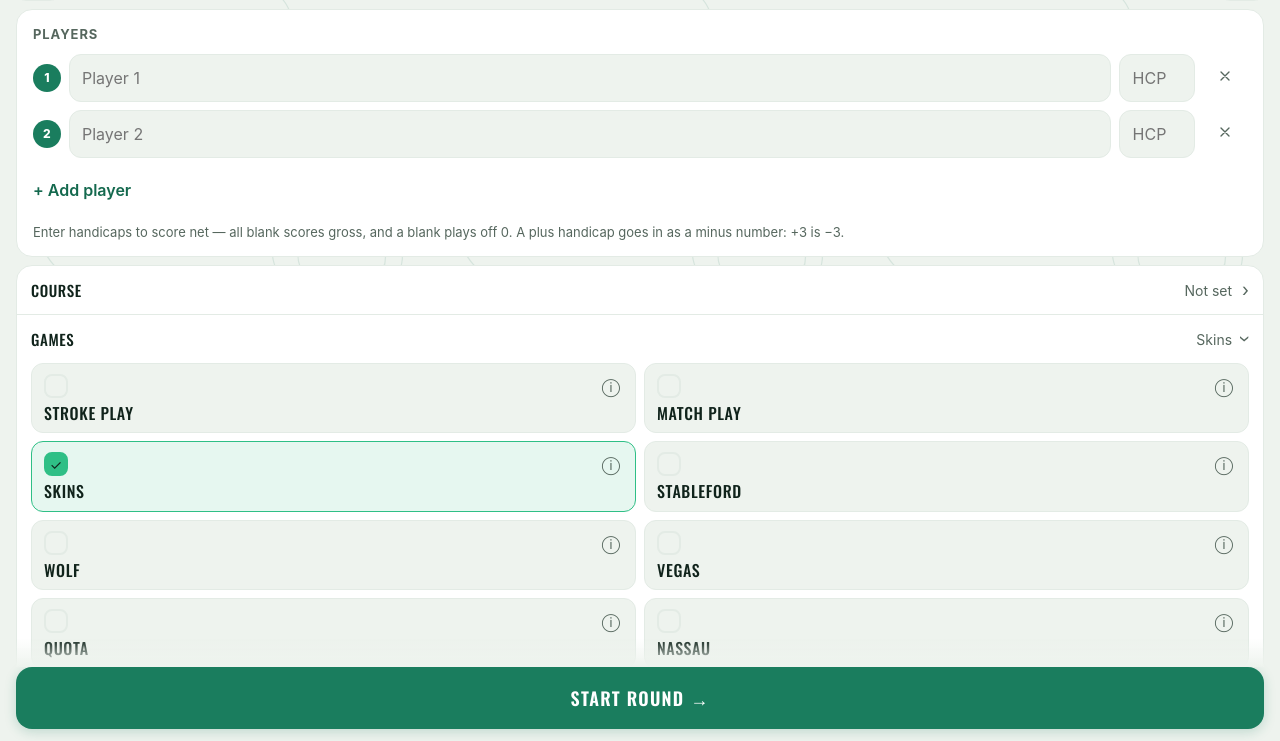
Test case: a scorecard that arrives damaged › names what looks wrong instead of importing it quietly
Click the button with class "setup-row-head" showing "Course Not set ›". click: (56, 290)
box: [17,266,1263,314]
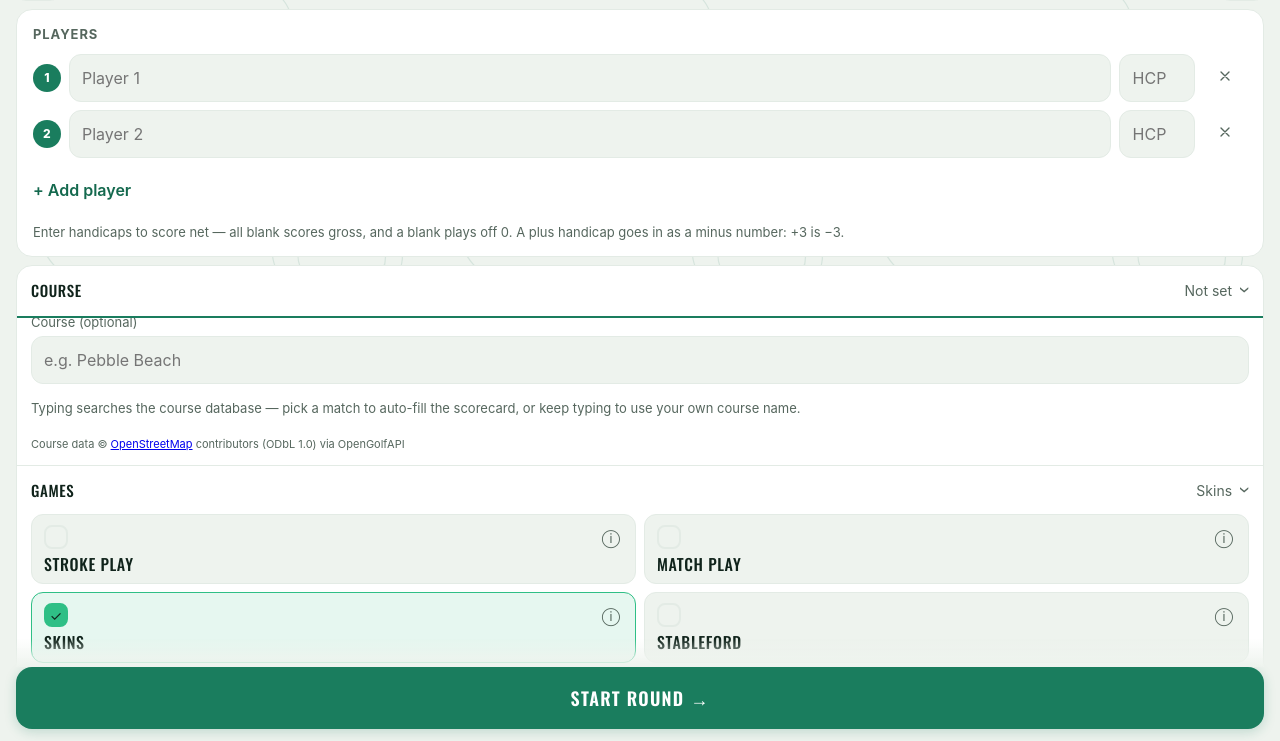
Type "Bramble" into the field labelled "Course (optional)". click: (640, 360)
box: [31,336,1249,384]
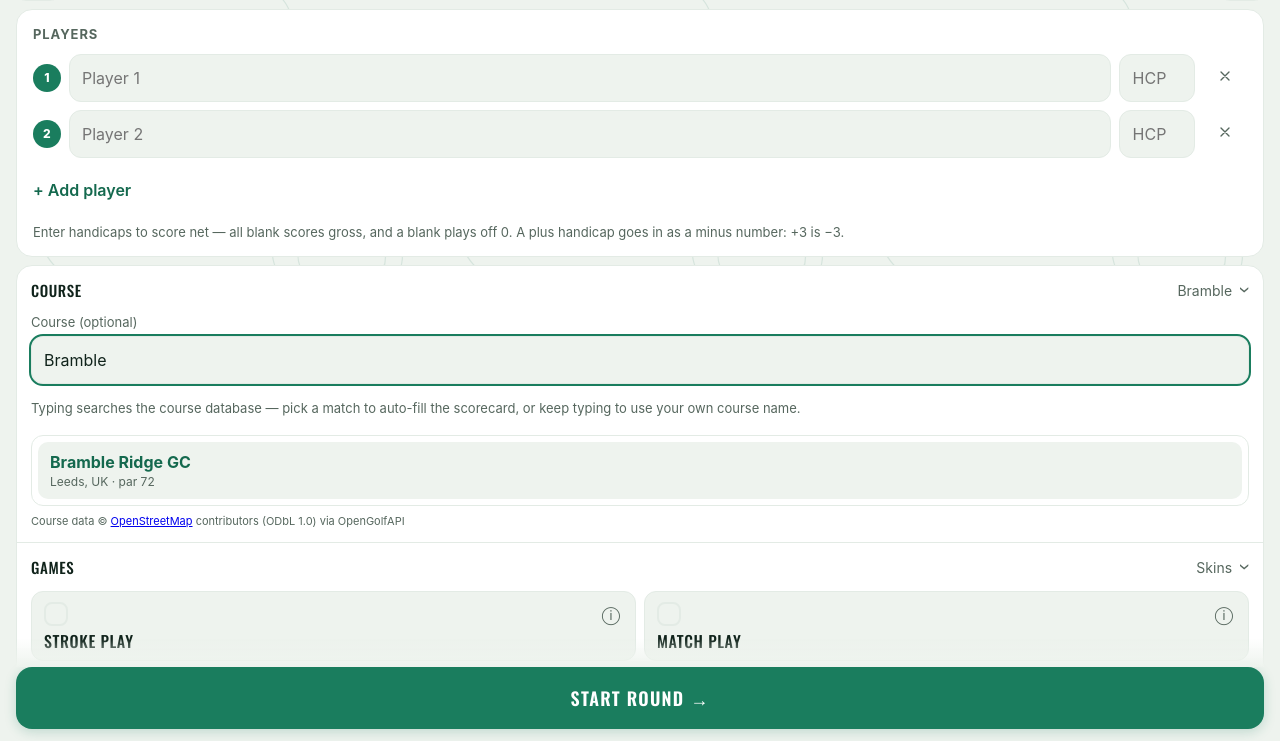
Click the text "Bramble Ridge GC". click: (120, 462)
box: [50,452,191,472]
(page scrolled)
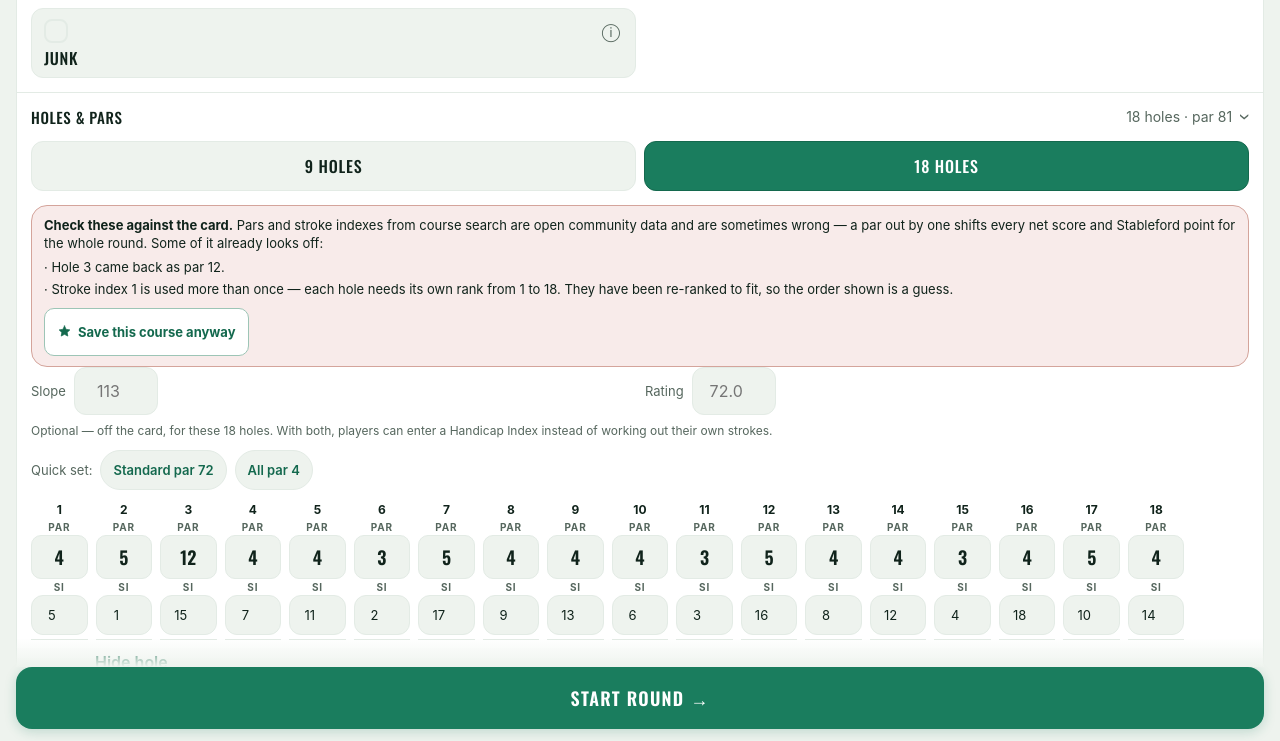
Expected: the message with class "check-note" is shown, [31,205,1249,367]
Expected: the message with class "check-note" shows "looks off", [151,235,323,251]
Expected: the message with class "check-note" shows "Hole 3 came back as par 12", [51,259,225,275]
